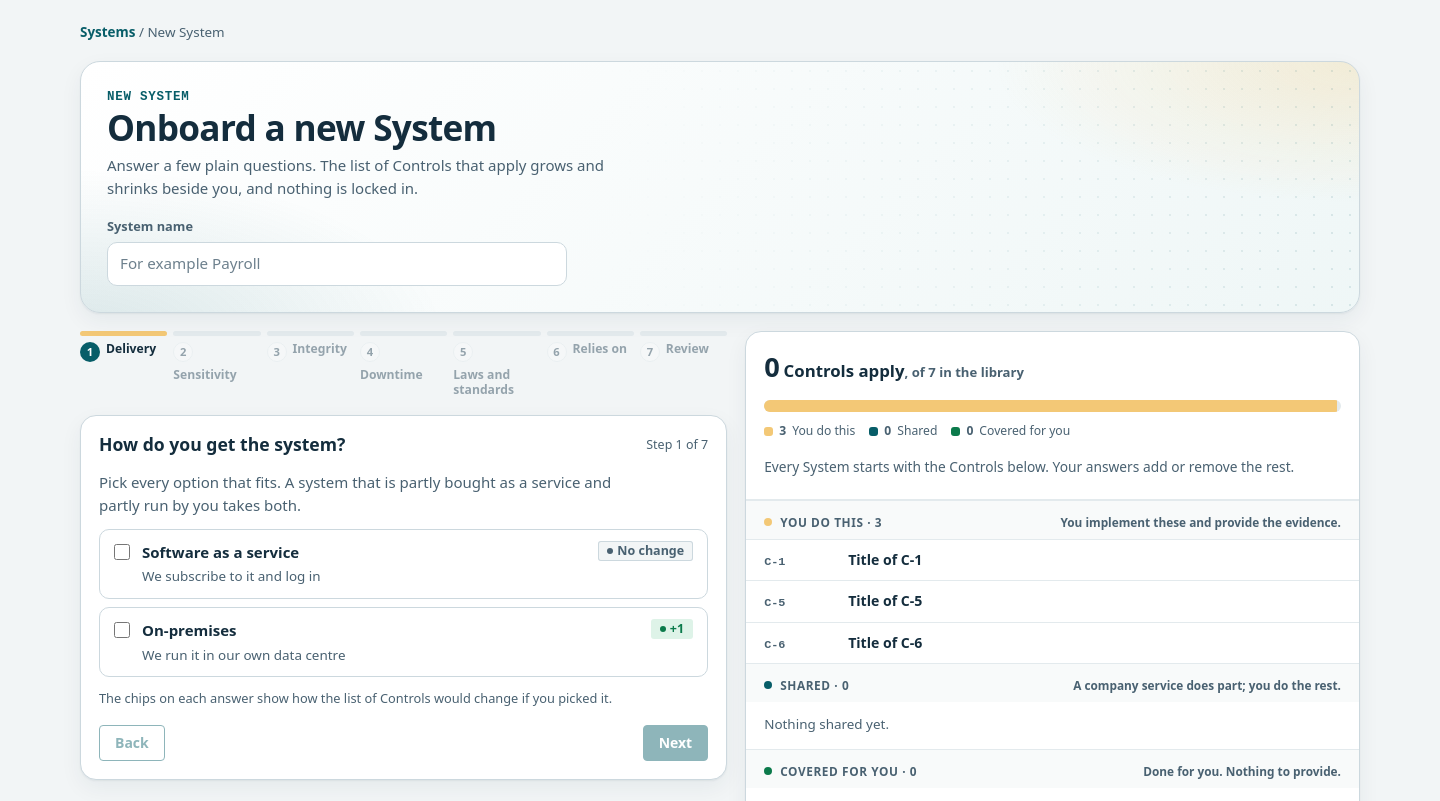
Test: OnboardingInterview › changes the groups when a Provider is picked, and says a Provider that is not Onboarded counts once it is
Expected: the heading "How do you get the system?" is shown, [99,432,345,457]
Click the checkbox labelled "Software as a service".
click(122, 552)  # box [114,544,130,560]
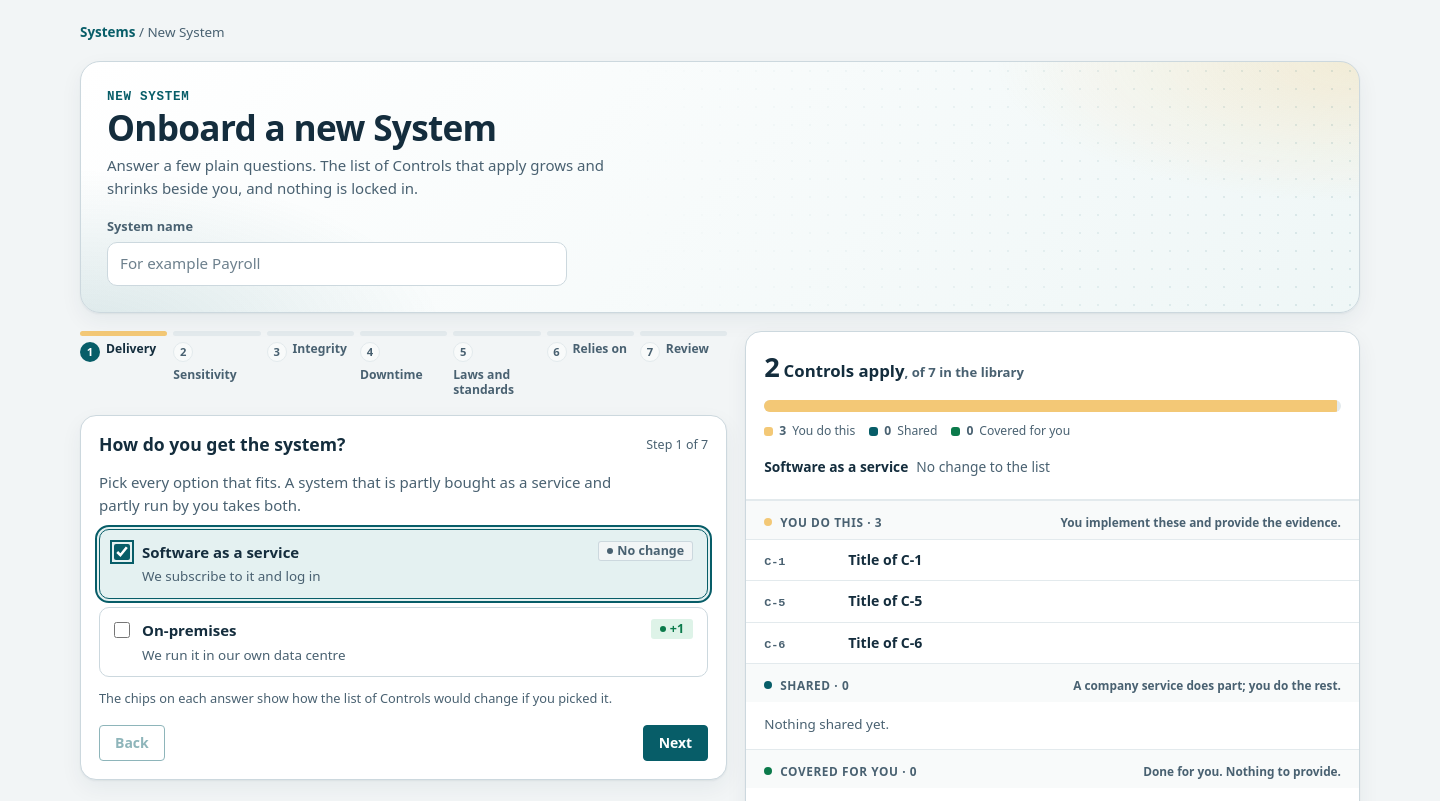
Click the button "6 Relies on".
click(590, 352)  # box [544,340,637,364]
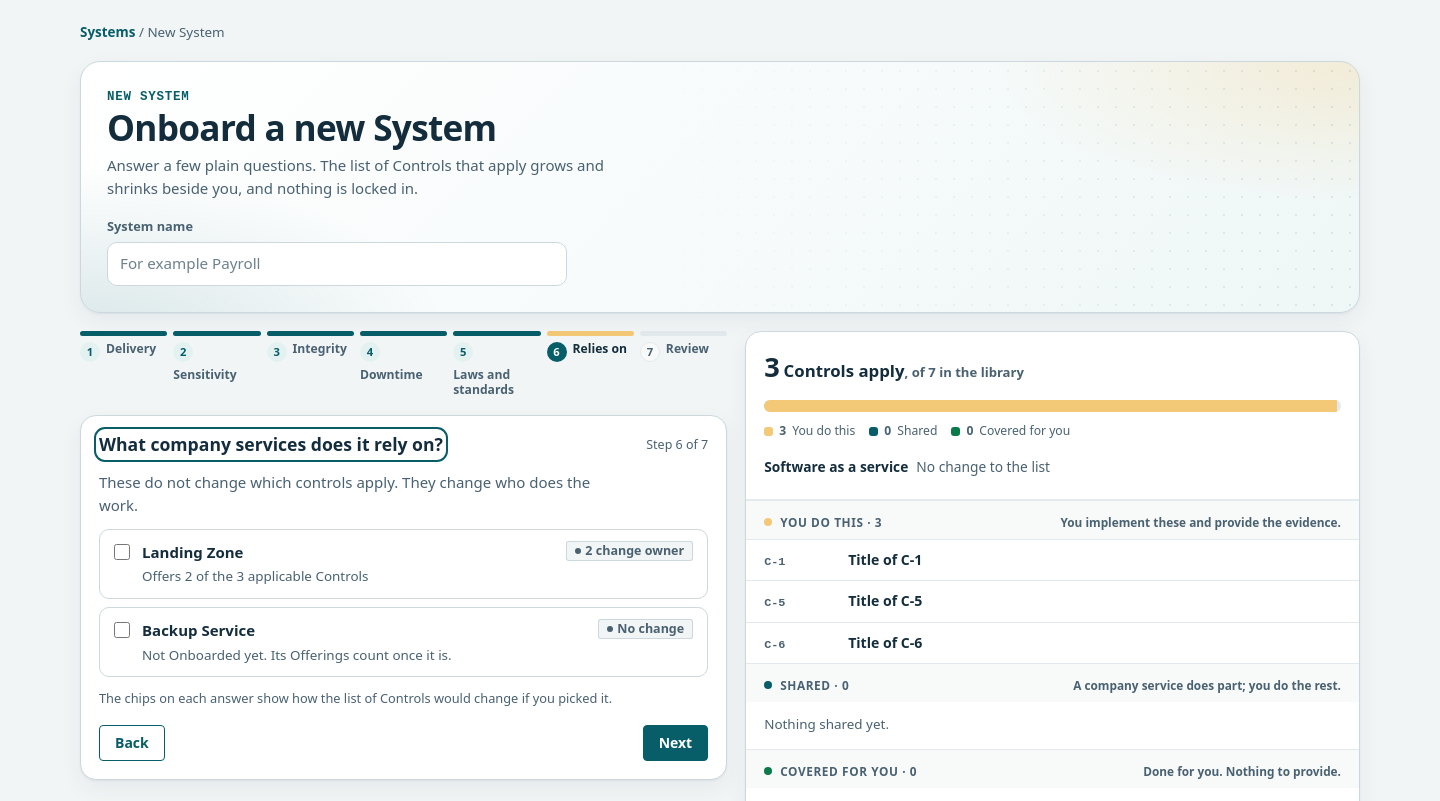
Expected: the heading "Covered for you · 0 Done for you. Nothing to provide." is shown, [746,749,1359,788]
Click the checkbox labelled "Landing Zone".
click(122, 552)  # box [114,544,130,560]
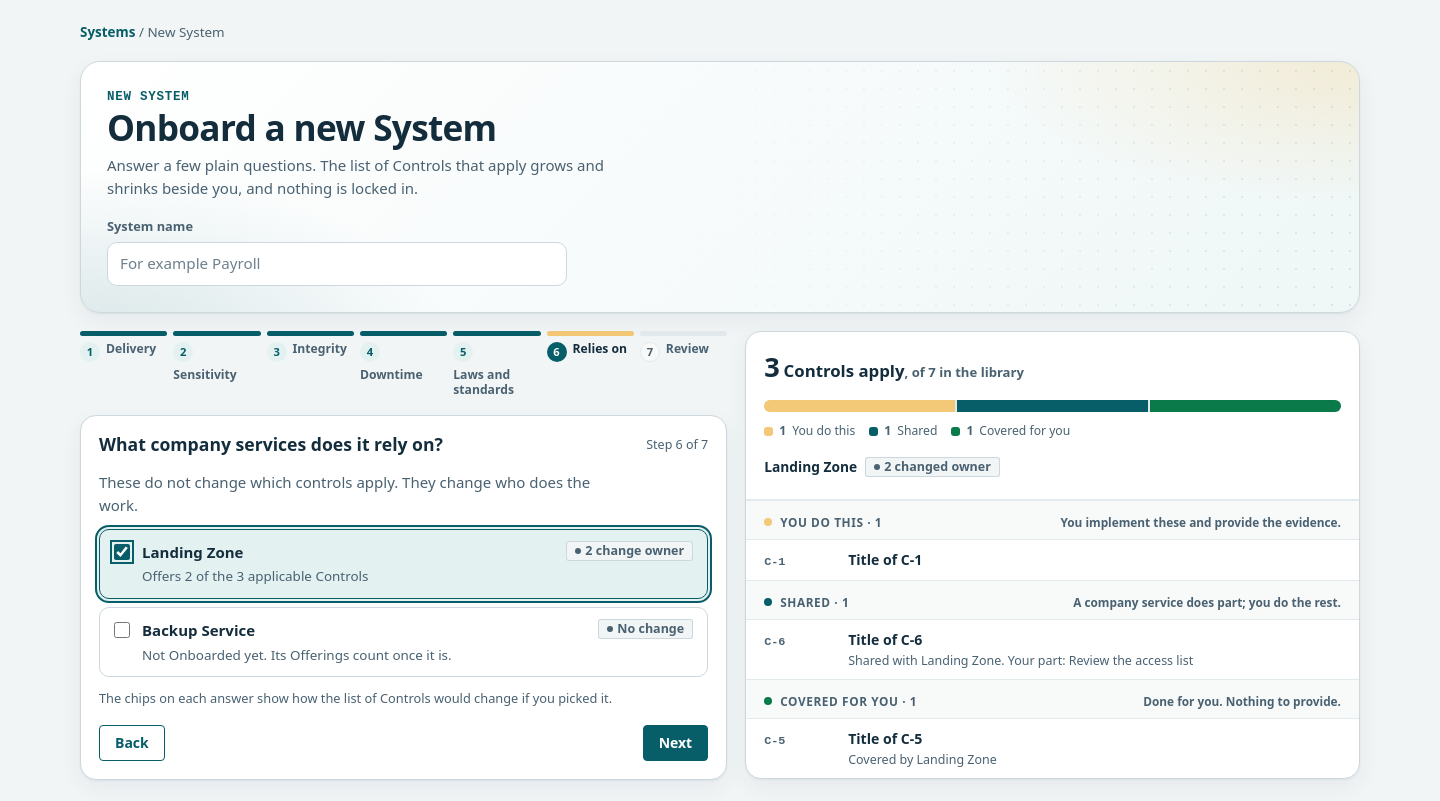
Expected: the heading named "You do this . 1" is shown, [746,500,1359,539]
Expected: the heading "Shared · 1 A company service does part; you do the rest." is shown, [746,580,1359,619]
Expected: the heading "Covered for you · 1 Done for you. Nothing to provide." is shown, [746,679,1359,718]
